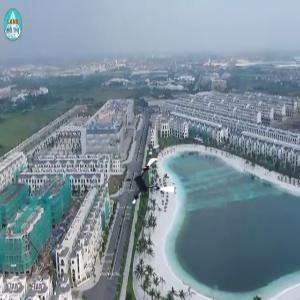drone: (123, 155, 178, 210)
